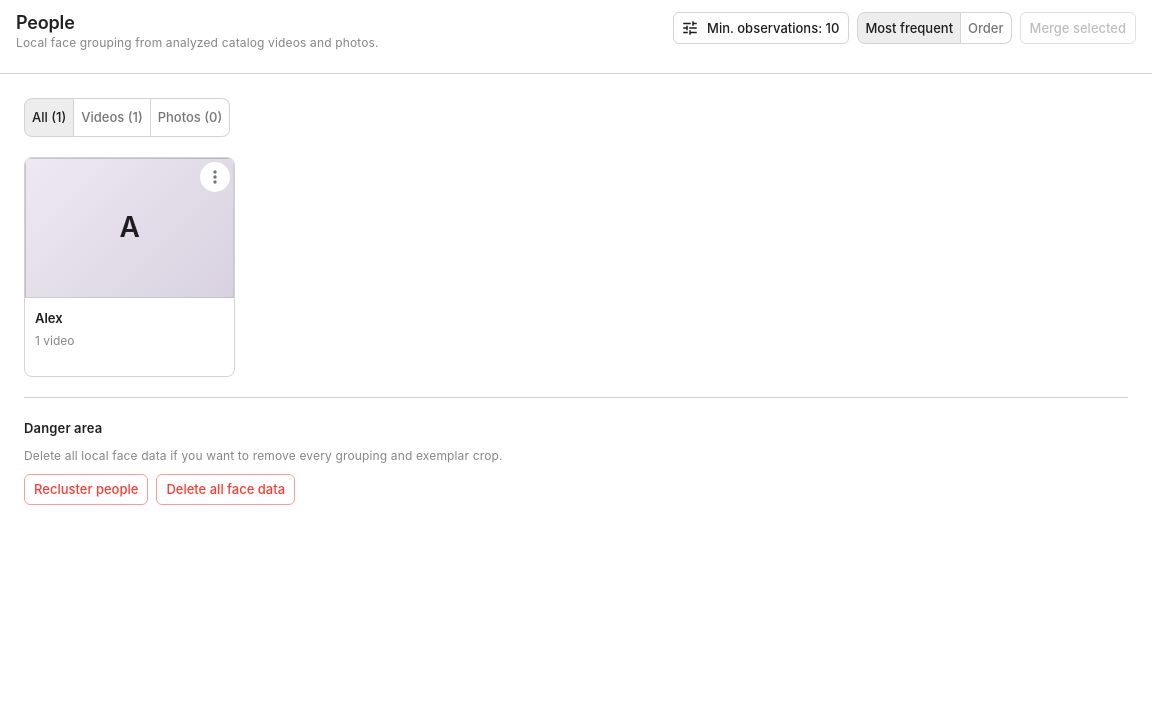
Scenario: PeopleView › adds person-card hide and trash shortcuts below the library search action
Expected: the element with test id "people-grid" is shown, [24,157,235,377]
Click the button named "More actions for Alex": (215, 177) [200,162,230,192]
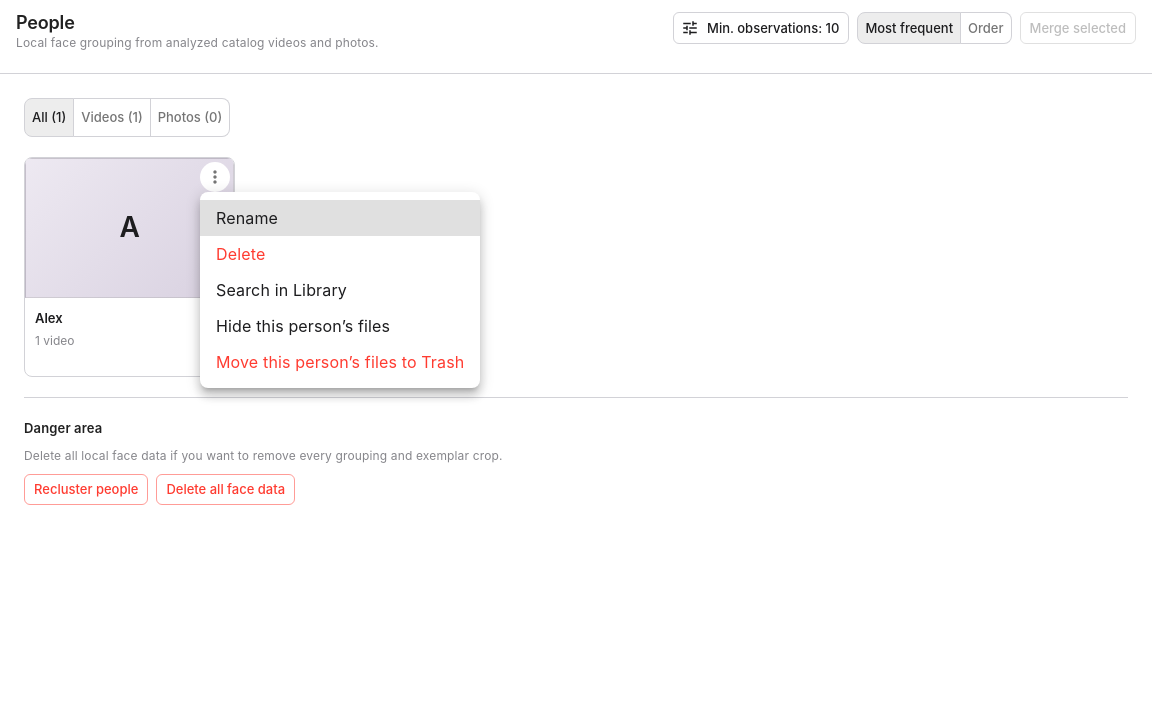
Expected: the menu item with test id "people-search-library" is shown, [216,280,347,300]
Expected: the menu item with test id "people-hide-files" reads "Hide this person’s files", [216,316,390,336]
Expected: the menu item with test id "people-trash-files" reads "Move this person’s files to Trash", [216,352,464,372]
